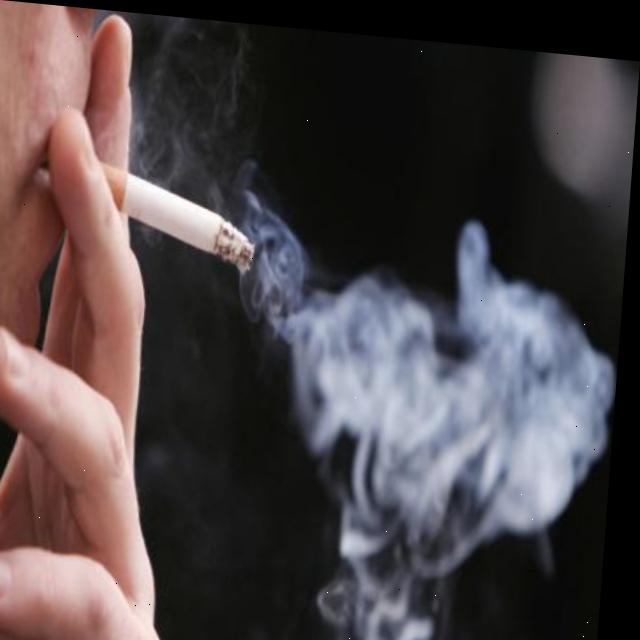cigarette: (86, 142, 268, 268)
